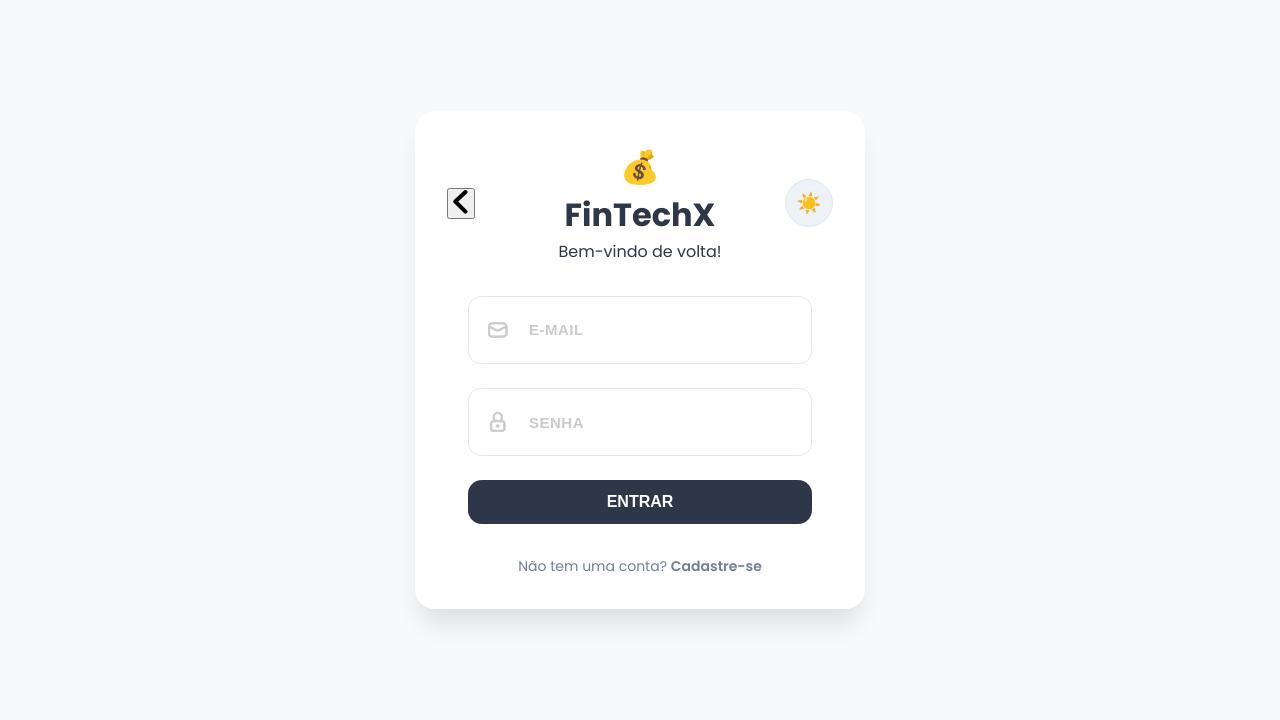
Test: Chat Interface › should send message and receive response
Type "test@example.com" into the field with test id "input-email" at coordinates (640, 330), box [468,296,812,364]
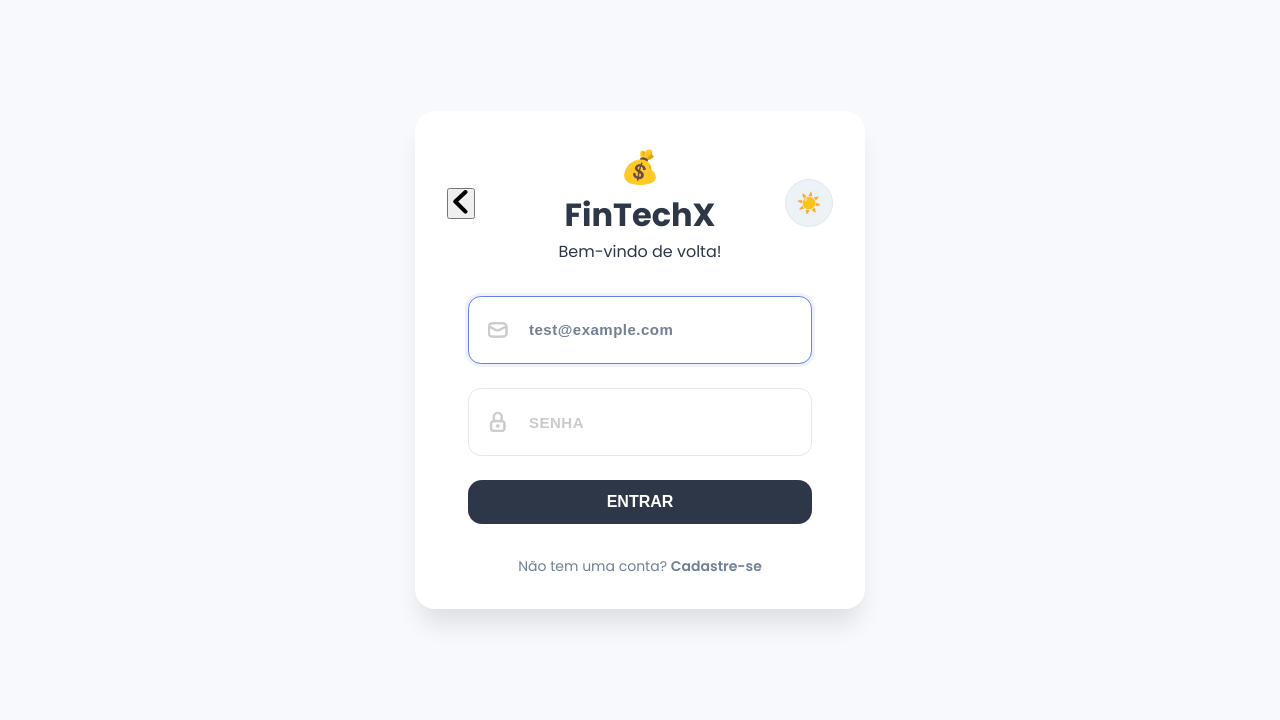
Type "password123" into the password field with test id "input-password" at coordinates (640, 422), box [468,388,812,456]
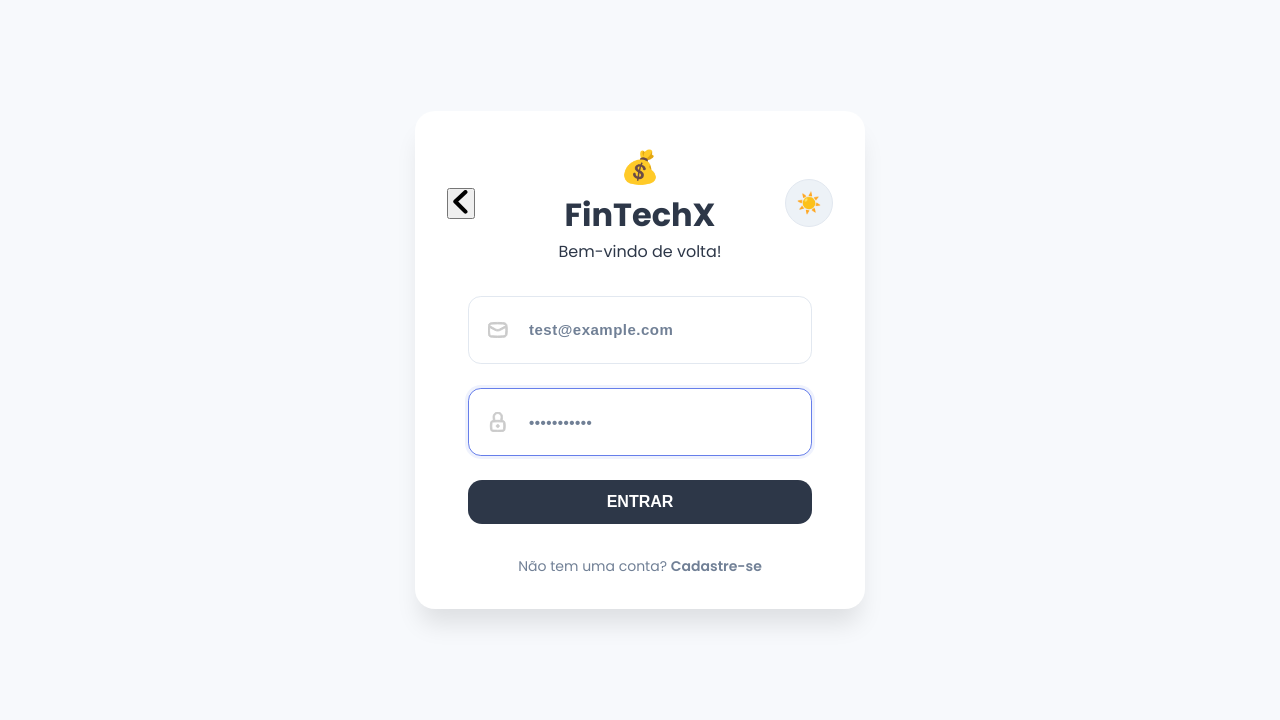
Click the submit button at coordinates (640, 502), box [468,480,812,524]
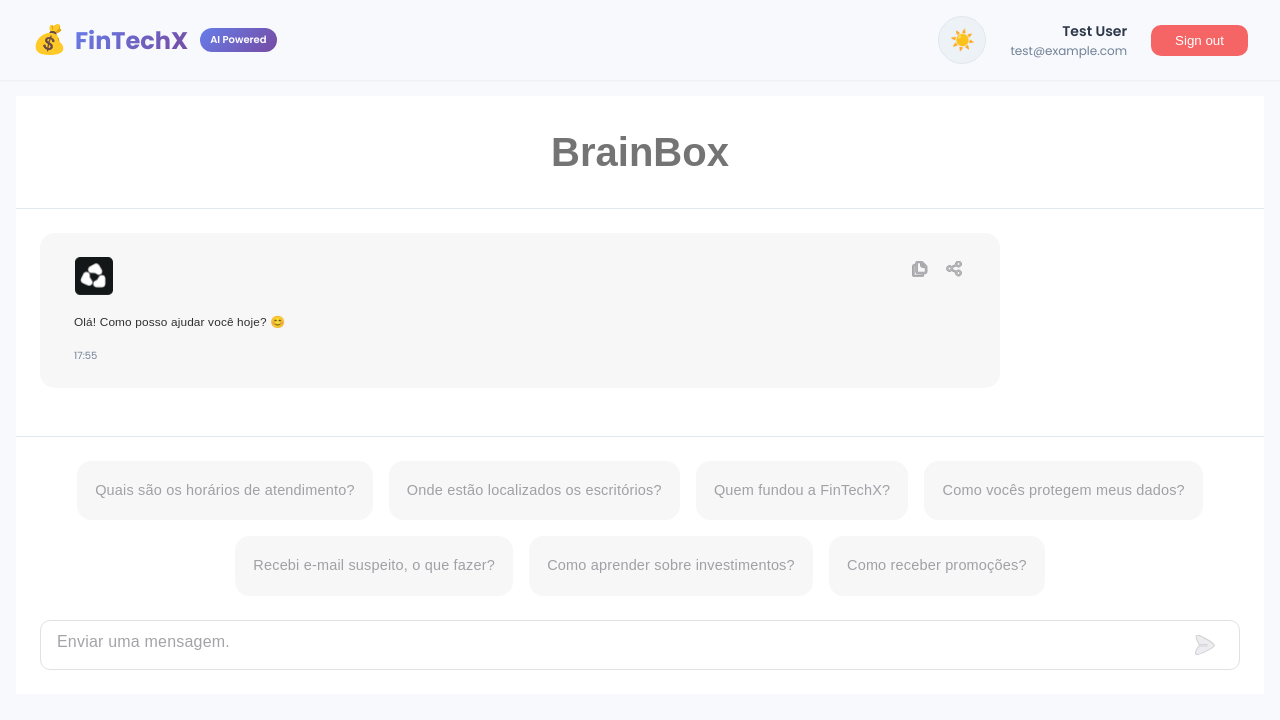
Type "What are your hours?" into the text box with placeholder "Enviar uma mensagem." at coordinates (614, 645), box [57,621,1171,669]
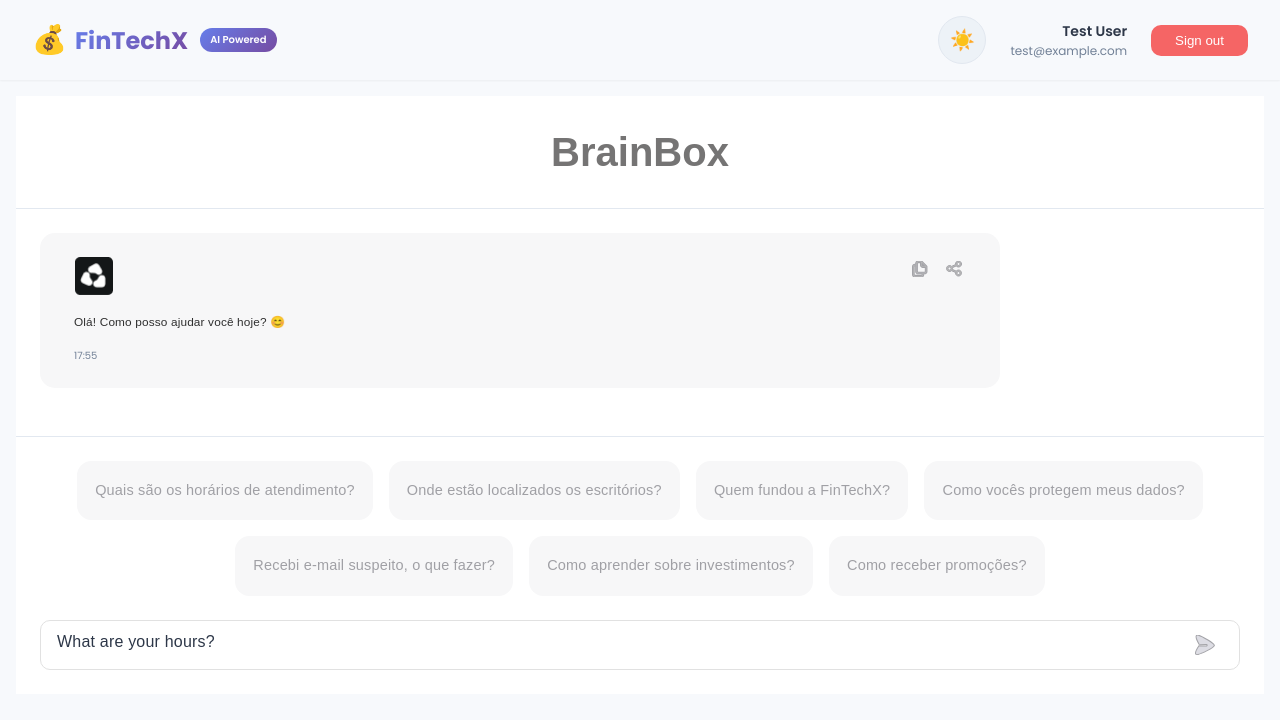
Click the button with test id "send-button" at coordinates (1205, 645), box [1187,627,1223,663]
(page scrolled)
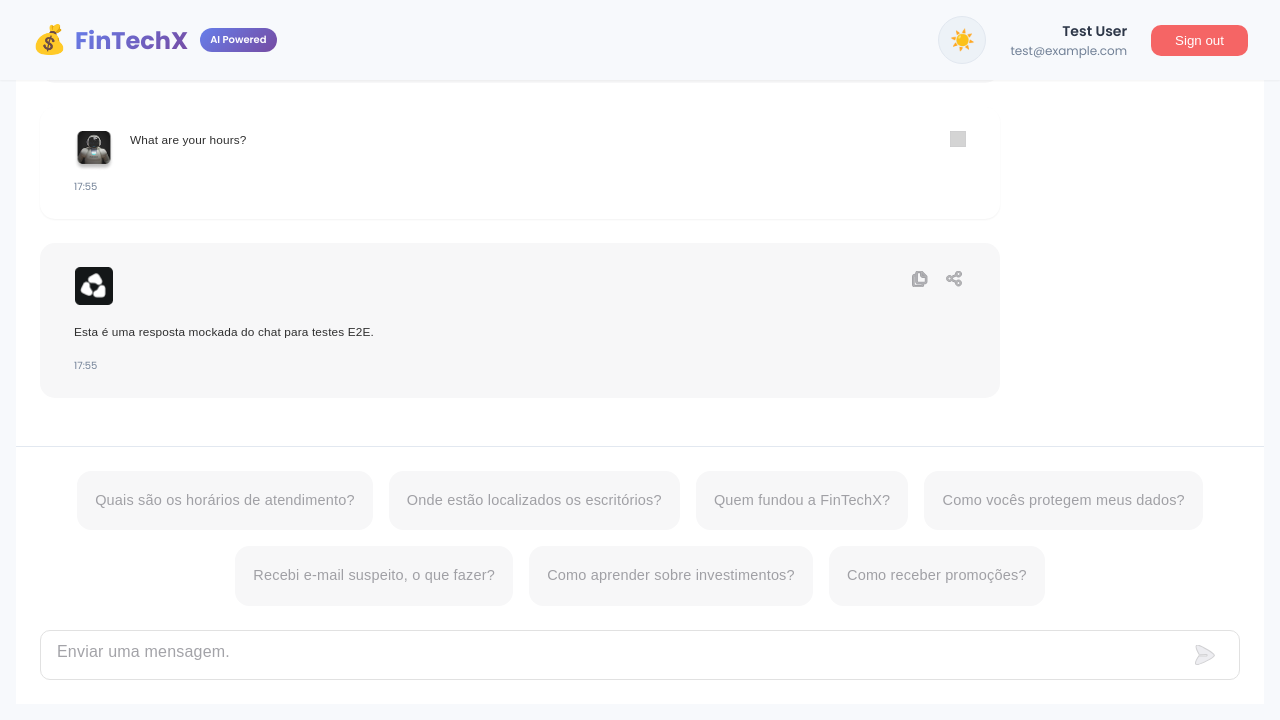
Now the text "What are your hours?" is shown, box [130,133,247,147]
Now the text "Esta é uma resposta mockada do chat para testes E2E." is shown, box [74,325,374,339]
